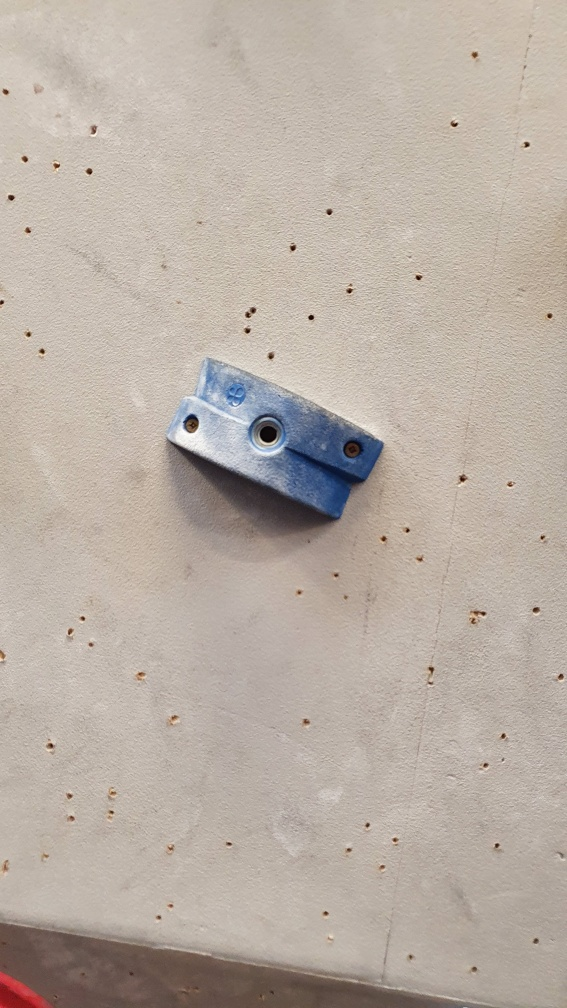Pinch: (163, 351, 387, 526)
